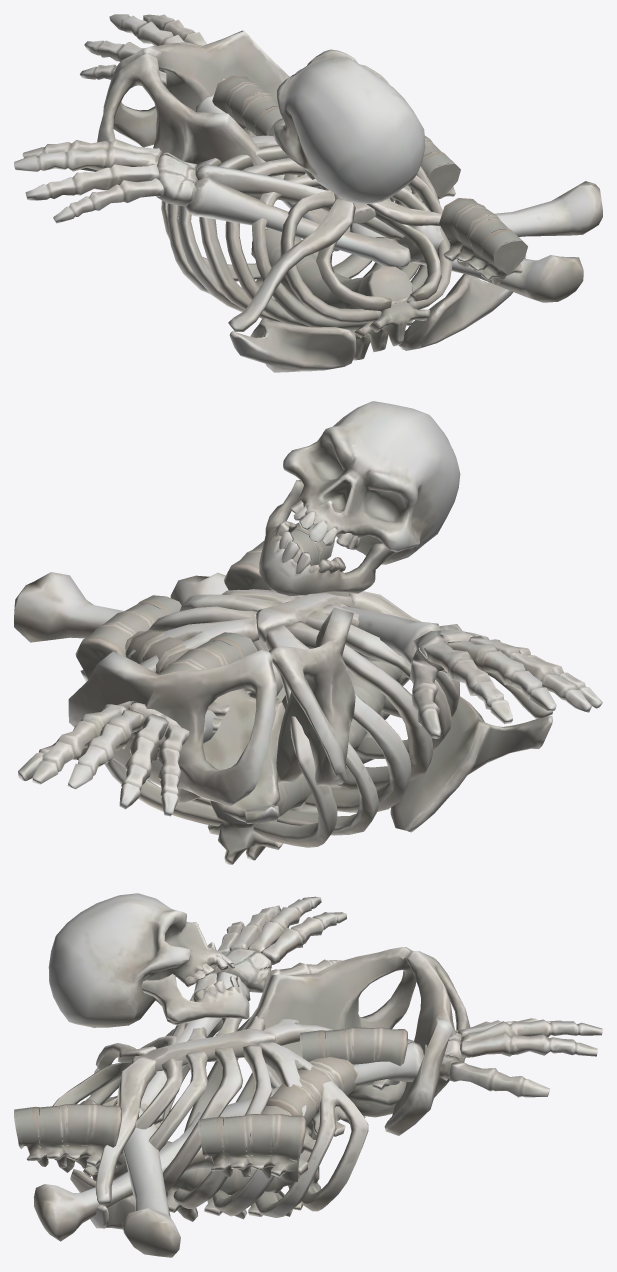
The picture shows the model from 3 angles, top to bottom: view 1: azimuth 30°, elevation 25°; view 2: azimuth 150°, elevation 25°; view 3: azimuth 270°, elevation 25°; orthographic projection. The views are drawn at different scales.
Parts seen in each view (by area): view 1: SM_BonePile_01_LOD0; view 2: SM_BonePile_01_LOD0; view 3: SM_BonePile_01_LOD0.
Part boxes in pixels (bbox=[...]): SM_BonePile_01_LOD0: bbox=[14, 14, 602, 372]; SM_BonePile_01_LOD0: bbox=[14, 401, 602, 864]; SM_BonePile_01_LOD0: bbox=[14, 893, 602, 1257].
Size of the model in its own units: 0.7771 by 0.4511 by 0.7741.
1 material, 1 textured.
